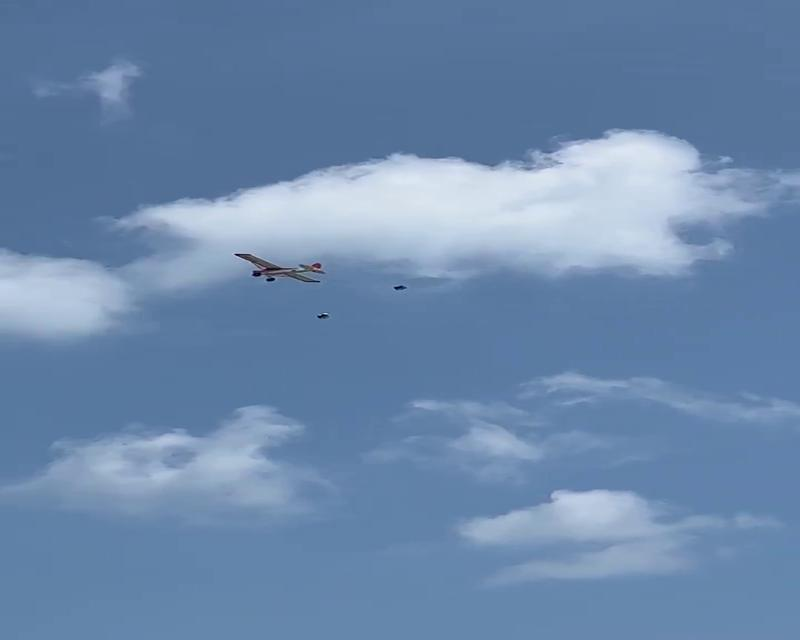UAV: (236, 252, 324, 284)
